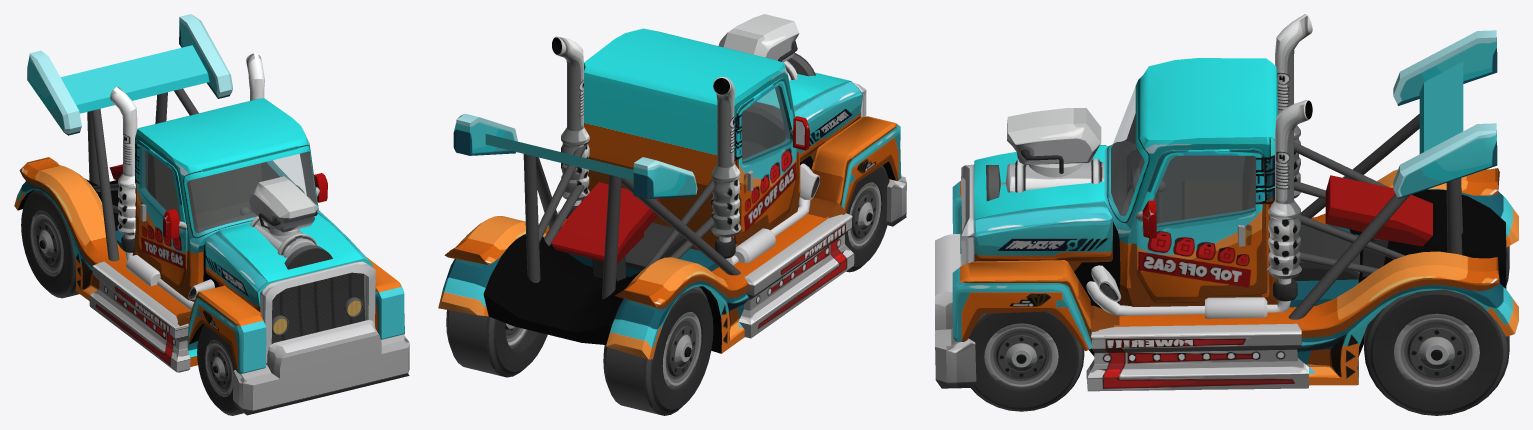
The model's file is car.gltf.
3 views of the same model, side by side, from view 1: azimuth 30°, elevation 25°; view 2: azimuth 150°, elevation 25°; view 3: azimuth 270°, elevation 25° (orthographic). The views are drawn at different scales.
Visible parts, largest first — view 1: HCR2_RT_Body_18, HCR2_RT_Spoiler_7, HCR2_RT_Bumper_17, HCR2_RT_Details_15, HCR2_RT_Right_Door_9, HCR2_RT_Window_4, HCR2_RT_Exhausts_13, HCR2_RT_Engine_14, HCR2_RT_Seat_8, HCR2_RT_RR_Wheel_2, HCR2_RT_FR_Wheel_3, HCR2_RT_Left_Door_10 (+2 smaller); view 2: HCR2_RT_Body_18, HCR2_RT_Details_15, HCR2_RT_Spoiler_7, HCR2_RT_Chassis_16, HCR2_RT_Exhausts_13, HCR2_RT_Right_Door_9, HCR2_RT_RR_Wheel_2, HCR2_RT_RL_Wheel_0, HCR2_RT_Engine_14, HCR2_RT_FR_Wheel_3, HCR2_RT_Interior_11, HCR2_RT_Bumper_17; view 3: HCR2_RT_Body_18, HCR2_RT_Details_15, HCR2_RT_Left_Door_10, HCR2_RT_Spoiler_7, HCR2_RT_RL_Wheel_0, HCR2_RT_Exhausts_13, HCR2_RT_FL_Wheel_1, HCR2_RT_Engine_14, HCR2_RT_Chassis_16, HCR2_RT_Bumper_17, HCR2_RT_Seat_8, HCR2_RT_Right_Door_9 (+2 smaller).
Boxes of the visible parts, x1,y1,x2,y2 form: HCR2_RT_Body_18: (14, 98, 404, 374); HCR2_RT_Spoiler_7: (27, 14, 232, 261); HCR2_RT_Bumper_17: (233, 320, 409, 415); HCR2_RT_Details_15: (89, 164, 375, 372); HCR2_RT_Right_Door_9: (135, 140, 187, 290); HCR2_RT_Window_4: (187, 151, 317, 232); HCR2_RT_Exhausts_13: (110, 53, 264, 310); HCR2_RT_Engine_14: (249, 176, 332, 269); HCR2_RT_Seat_8: (147, 153, 262, 228); HCR2_RT_RR_Wheel_2: (21, 190, 79, 298); HCR2_RT_FR_Wheel_3: (197, 325, 267, 415); HCR2_RT_Left_Door_10: (261, 154, 327, 202); HCR2_RT_Body_18: (438, 28, 901, 359); HCR2_RT_Details_15: (538, 82, 866, 338); HCR2_RT_Spoiler_7: (453, 113, 740, 299); HCR2_RT_Chassis_16: (483, 234, 639, 344); HCR2_RT_Exhausts_13: (552, 36, 819, 265); HCR2_RT_Right_Door_9: (734, 78, 809, 243); HCR2_RT_RR_Wheel_2: (603, 286, 713, 415); HCR2_RT_RL_Wheel_0: (446, 310, 547, 377); HCR2_RT_Engine_14: (718, 14, 815, 80); HCR2_RT_FR_Wheel_3: (845, 165, 889, 272); HCR2_RT_Interior_11: (741, 101, 785, 159); HCR2_RT_Bumper_17: (886, 176, 906, 226); HCR2_RT_Body_18: (952, 58, 1518, 385); HCR2_RT_Details_15: (961, 142, 1432, 391); HCR2_RT_Left_Door_10: (1136, 148, 1267, 303); HCR2_RT_Spoiler_7: (1288, 30, 1497, 319); HCR2_RT_RL_Wheel_0: (1364, 289, 1509, 415); HCR2_RT_Exhausts_13: (1086, 14, 1312, 318); HCR2_RT_FL_Wheel_1: (968, 311, 1084, 411); HCR2_RT_Engine_14: (986, 108, 1104, 201); HCR2_RT_Chassis_16: (1089, 189, 1506, 356); HCR2_RT_Bumper_17: (935, 234, 976, 388); HCR2_RT_Seat_8: (1181, 155, 1266, 232); HCR2_RT_Right_Door_9: (1136, 148, 1244, 221).
Size of the model in its own units: 2.32 by 2.84 by 4.88.
Materials: 3 (2 with a texture image).
